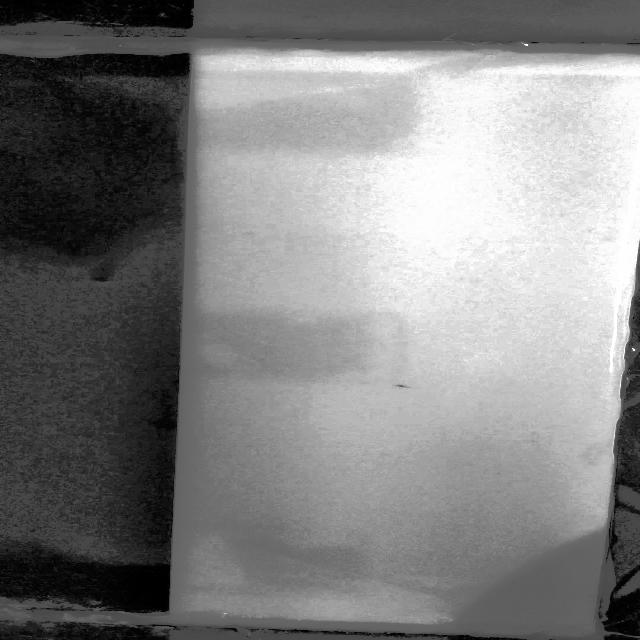shrimp: (392, 381, 420, 392)
